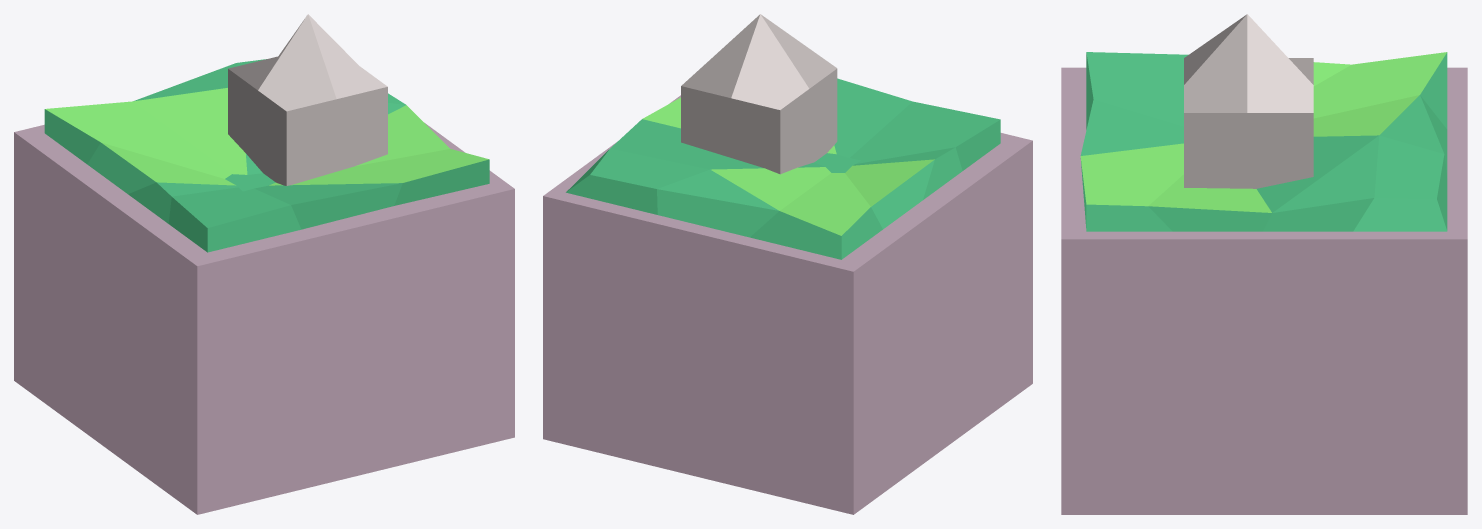
Rendered from block_5.fbx.
3 views of the same model, side by side, from view 1: azimuth 30°, elevation 25°; view 2: azimuth 150°, elevation 25°; view 3: azimuth 270°, elevation 25° (orthographic). The views are drawn at different scales.
Visible parts, largest first — view 1: block_5; view 2: block_5; view 3: block_5.
Part boxes in pixels (x1=…): block_5: x1=14, y1=14, x2=514, y2=514; block_5: x1=543, y1=14, x2=1032, y2=514; block_5: x1=1061, y1=14, x2=1467, y2=514.
Size of the model in its own units: 200 by 236 by 200.
